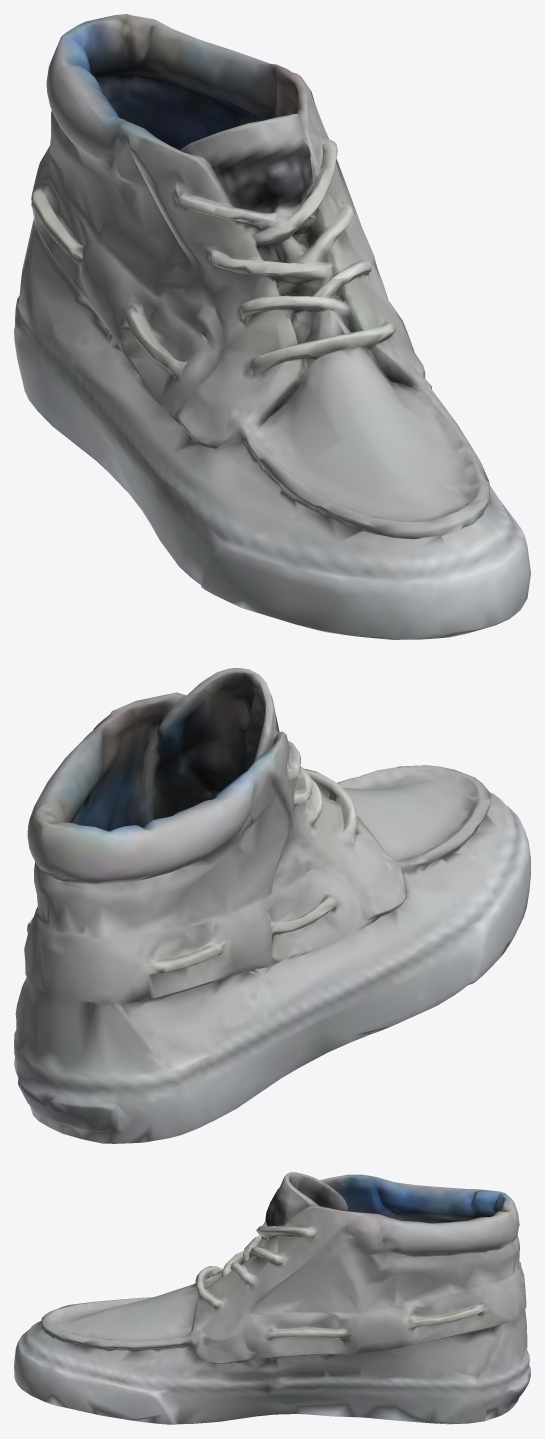
File: Womens_Betty_Chukka_Boot_in_Grey_Jersey_Sequin-high.glb
The picture shows the model from 3 angles, top to bottom: view 1: azimuth 30°, elevation 25°; view 2: azimuth 150°, elevation 25°; view 3: azimuth 270°, elevation 25°; orthographic projection. The views are drawn at different scales.
Parts seen in each view (by area): view 1: Womens_Betty_Chukka_Boot_in_Grey_Jersey_Sequin; view 2: Womens_Betty_Chukka_Boot_in_Grey_Jersey_Sequin; view 3: Womens_Betty_Chukka_Boot_in_Grey_Jersey_Sequin.
Part boxes in pixels (x1,y1,x2,y2): Womens_Betty_Chukka_Boot_in_Grey_Jersey_Sequin: (14, 14, 530, 639); Womens_Betty_Chukka_Boot_in_Grey_Jersey_Sequin: (14, 668, 530, 1143); Womens_Betty_Chukka_Boot_in_Grey_Jersey_Sequin: (14, 1172, 530, 1424).
Bounding box in the file's own units: 0.0918 × 0.1192 × 0.2495.
Materials: 1 (1 with a texture image).
